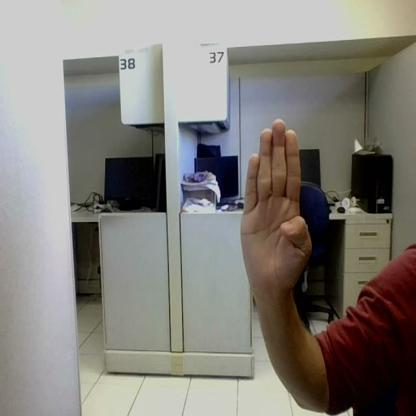B: (242, 120, 312, 287)
